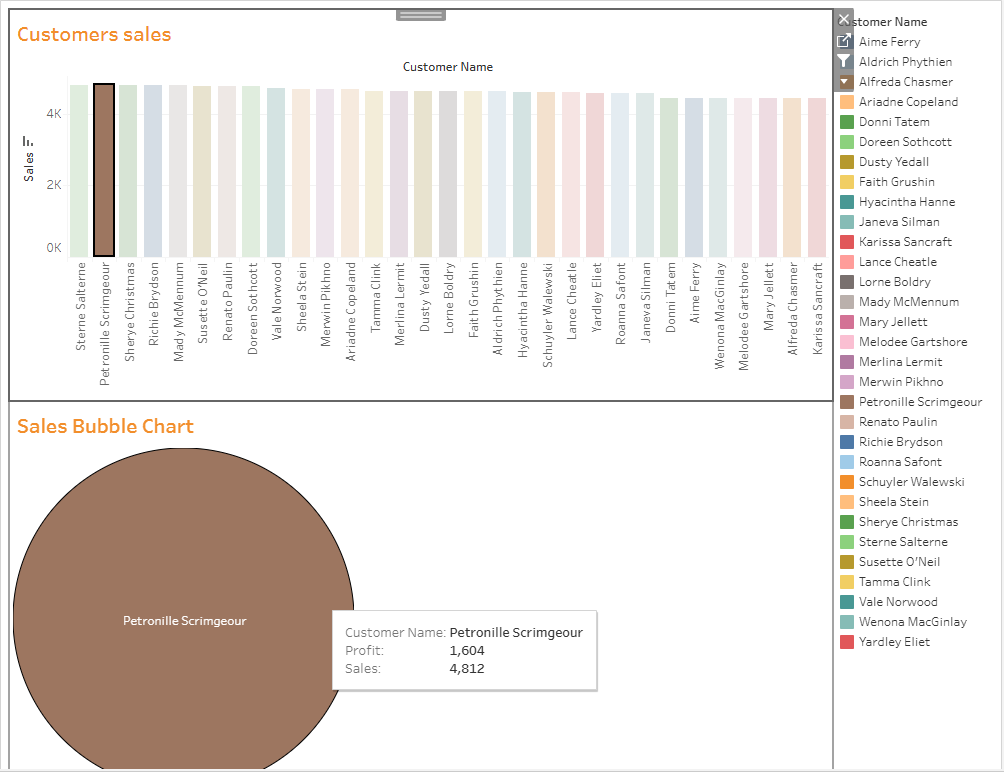

The page's visual inventory and layout, read from the dashboard file:
{"tool":"tableau","page":{"name":"Dashboard 1","canvas":[1000,800],"ordinal":0},"visuals":[{"type":"worksheet","title":"Customers sales","mark":"Bar","rows":["Sales"],"cols":["Customer Name"],"box":[8,8,824,392]},{"type":"legend","title":"Customers sales","param":"[federated.017e1ij15dgmxy10uzepq1vudoix].[none:Customer Name:nk]","box":[832,8,160,647]},{"type":"worksheet","title":"Sales Bubble Chart","mark":"Circle","box":[8,400,824,392]},{"type":"legend","title":"Sales Bubble Chart","param":"[federated.017e1ij15dgmxy10uzepq1vudoix].[sum:Sales:qk]","box":[832,655,160,22]}]}

Visuals, with their boxes in screenshot pixels (x1, y1, x2, y2):
"Customers sales" worksheet (Bar marks): (x1=18, y1=10, x2=831, y2=397)
"Customers sales" legend: (x1=831, y1=10, x2=988, y2=648)
"Sales Bubble Chart" worksheet (Circle marks): (x1=18, y1=397, x2=831, y2=771)
"Sales Bubble Chart" legend: (x1=831, y1=648, x2=988, y2=670)
